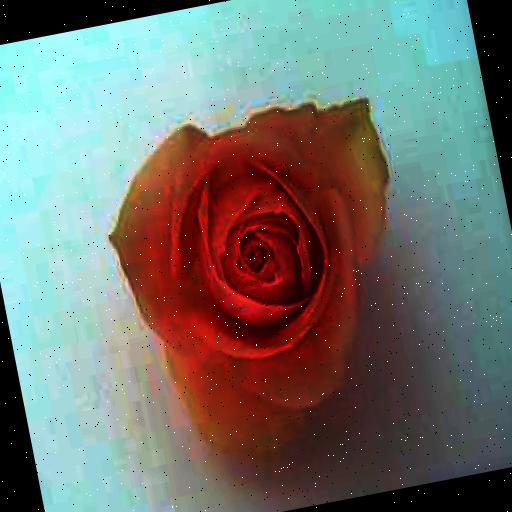rose: (90, 83, 430, 474)
